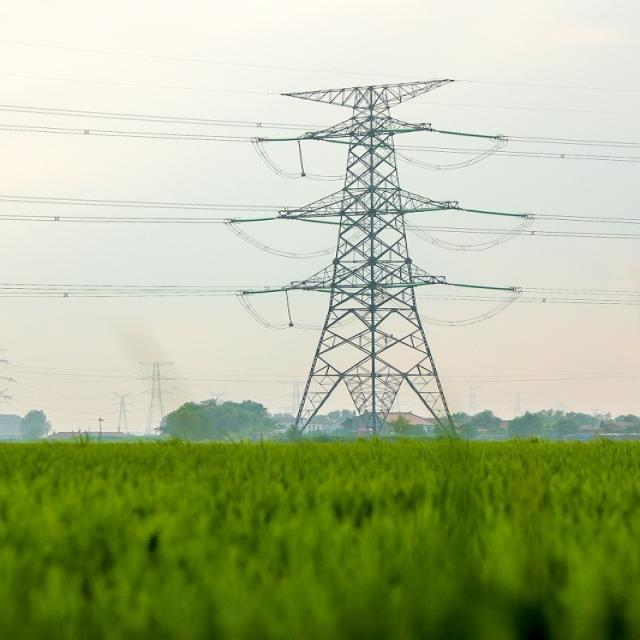non-critical vegetation: (245, 76, 507, 446)
